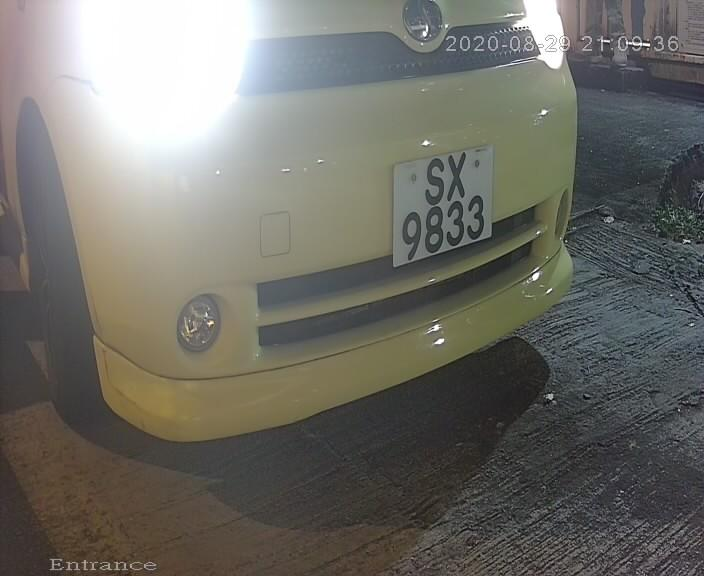License Plate: (387, 124, 500, 283)
